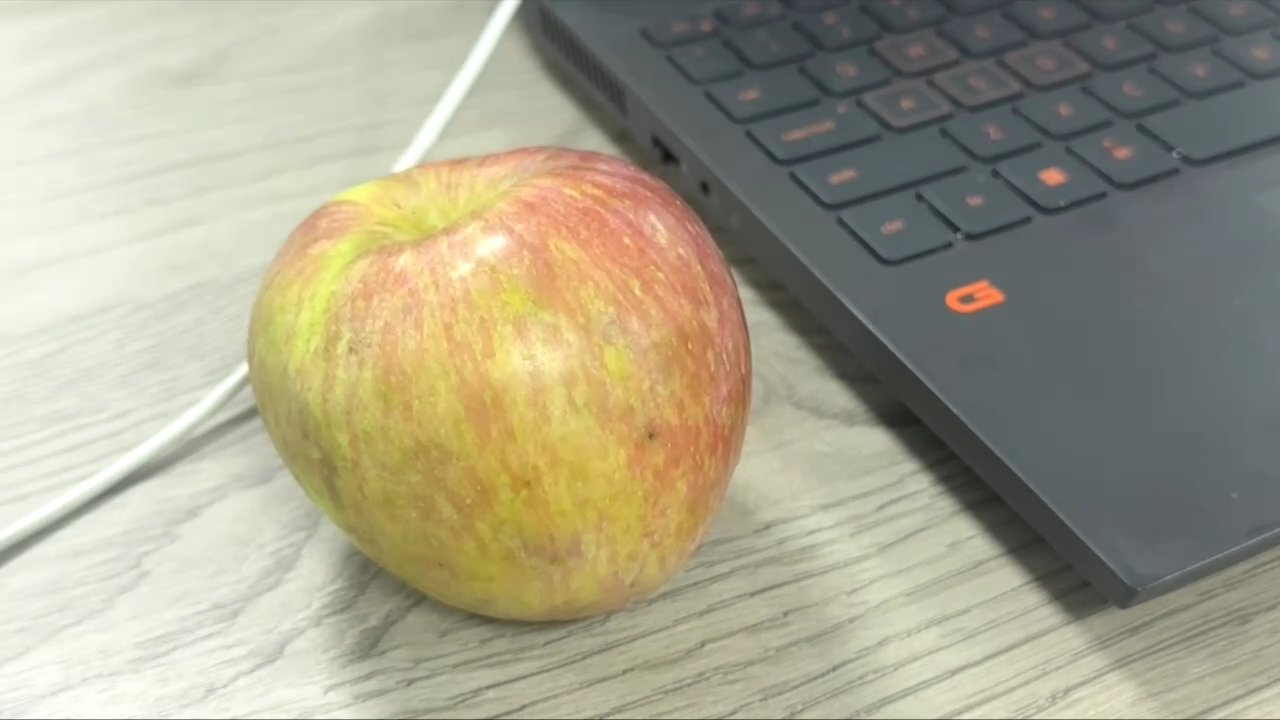apple_rotten: (235, 143, 759, 624)
